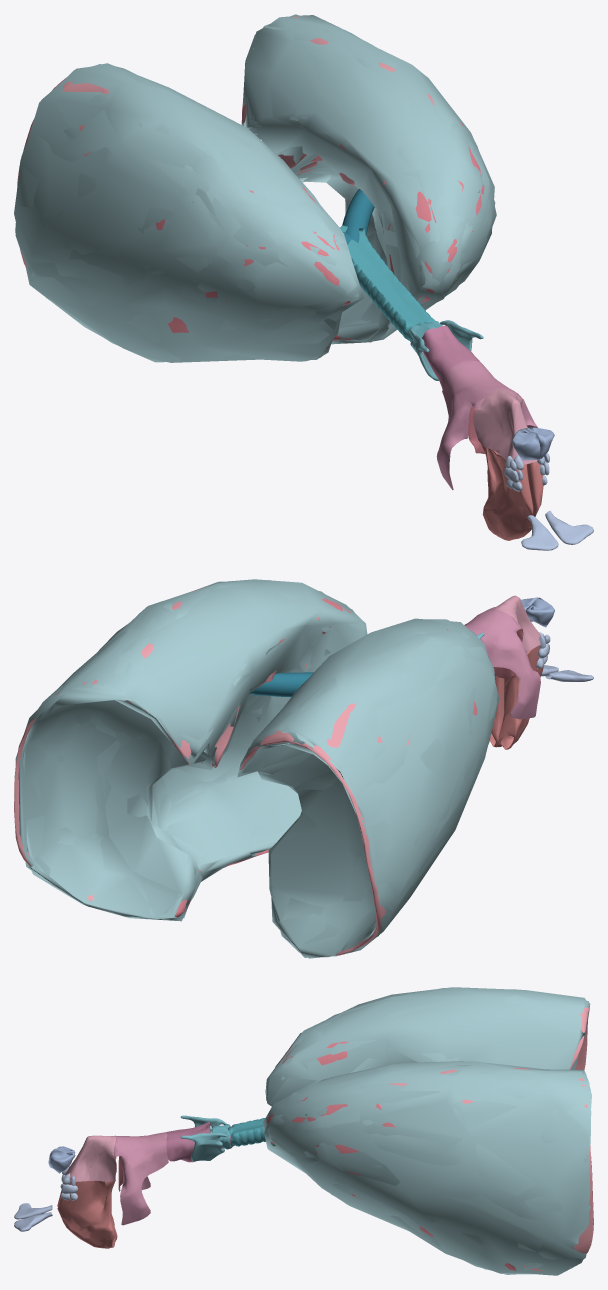
Rendered from respiratory.glb.
3 views of the same model, one above another, from view 1: azimuth 30°, elevation 25°; view 2: azimuth 150°, elevation 25°; view 3: azimuth 270°, elevation 25° (orthographic). The views are drawn at different scales.
Visible parts, largest first — view 1: 胸膜, 鼻腔黏膜, 口咽, 气管, 鼻咽, 喉咽, 额窦, 蝶窦, 左肺上叶, 右肺上叶, 左主支气管, 甲状软骨 (+1 smaller); view 2: 胸膜, 口咽, 右肺下叶, 鼻腔黏膜, 左肺下叶, 鼻咽, 左主支气管, 蝶窦, 额窦; view 3: 胸膜, 口咽, 鼻腔黏膜, 鼻咽, 甲状软骨, 喉咽, 左肺下叶, 气管, 额窦, 左肺上叶, 右肺下叶, 蝶窦.
Part boxes in pixels (x1,y1,x2,y2): 胸膜: [14, 14, 496, 362]; 鼻腔黏膜: [480, 443, 543, 540]; 口咽: [436, 360, 537, 490]; 气管: [340, 225, 434, 340]; 鼻咽: [473, 388, 537, 464]; 喉咽: [408, 325, 479, 389]; 额窦: [521, 510, 593, 550]; 蝶窦: [512, 427, 554, 460]; 左肺上叶: [333, 122, 492, 340]; 右肺上叶: [155, 186, 350, 350]; 左主支气管: [342, 188, 374, 242]; 甲状软骨: [409, 320, 483, 380]; 胸膜: [15, 579, 499, 958]; 口咽: [464, 609, 540, 719]; 右肺下叶: [240, 703, 411, 955]; 鼻腔黏膜: [489, 645, 543, 749]; 左肺下叶: [14, 587, 284, 901]; 鼻咽: [487, 595, 540, 652]; 左主支气管: [252, 672, 313, 697]; 蝶窦: [521, 597, 554, 627]; 额窦: [541, 665, 593, 681]; 胸膜: [263, 987, 591, 1275]; 口咽: [113, 1132, 168, 1225]; 鼻腔黏膜: [57, 1175, 117, 1248]; 鼻咽: [65, 1135, 116, 1181]; 甲状软骨: [180, 1115, 227, 1161]; 喉咽: [166, 1121, 232, 1162]; 左肺下叶: [389, 1068, 593, 1271]; 气管: [228, 1118, 265, 1146]; 额窦: [14, 1203, 52, 1231]; 左肺上叶: [265, 1096, 516, 1270]; 右肺下叶: [569, 1003, 590, 1070]; 蝶窦: [48, 1146, 75, 1173].
Size of the model in its own units: 0.3892 by 0.2838 by 0.6861.
